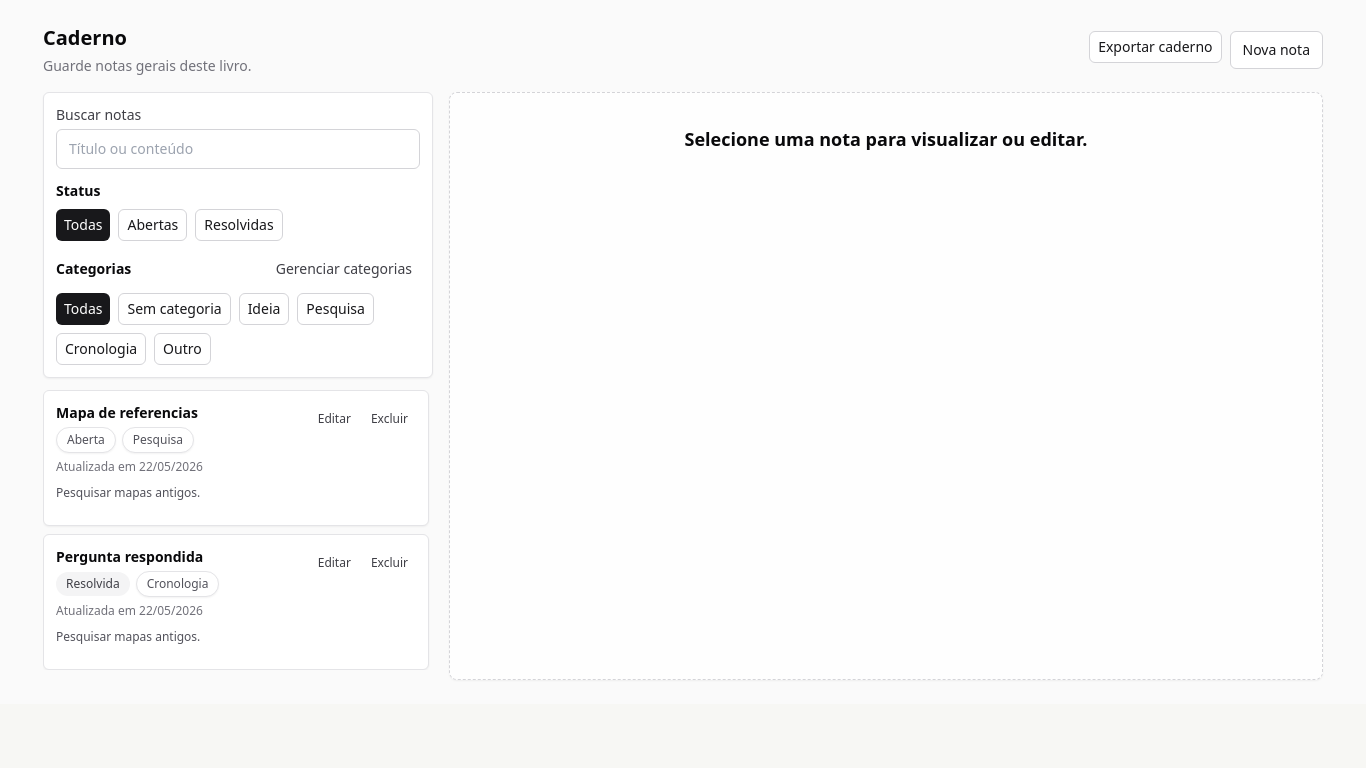
NotebookPanel writing layout and status › novo layout renderiza filtros lista e editor em duas areas
Expected: the element named "Navegação do caderno" is shown, [43, 92, 433, 680]
Expected: the field labelled "Buscar notas" is shown, [56, 129, 420, 169]
Step 1. Click the heading "Mapa de referencias" → (127, 412), box [56, 403, 198, 422]
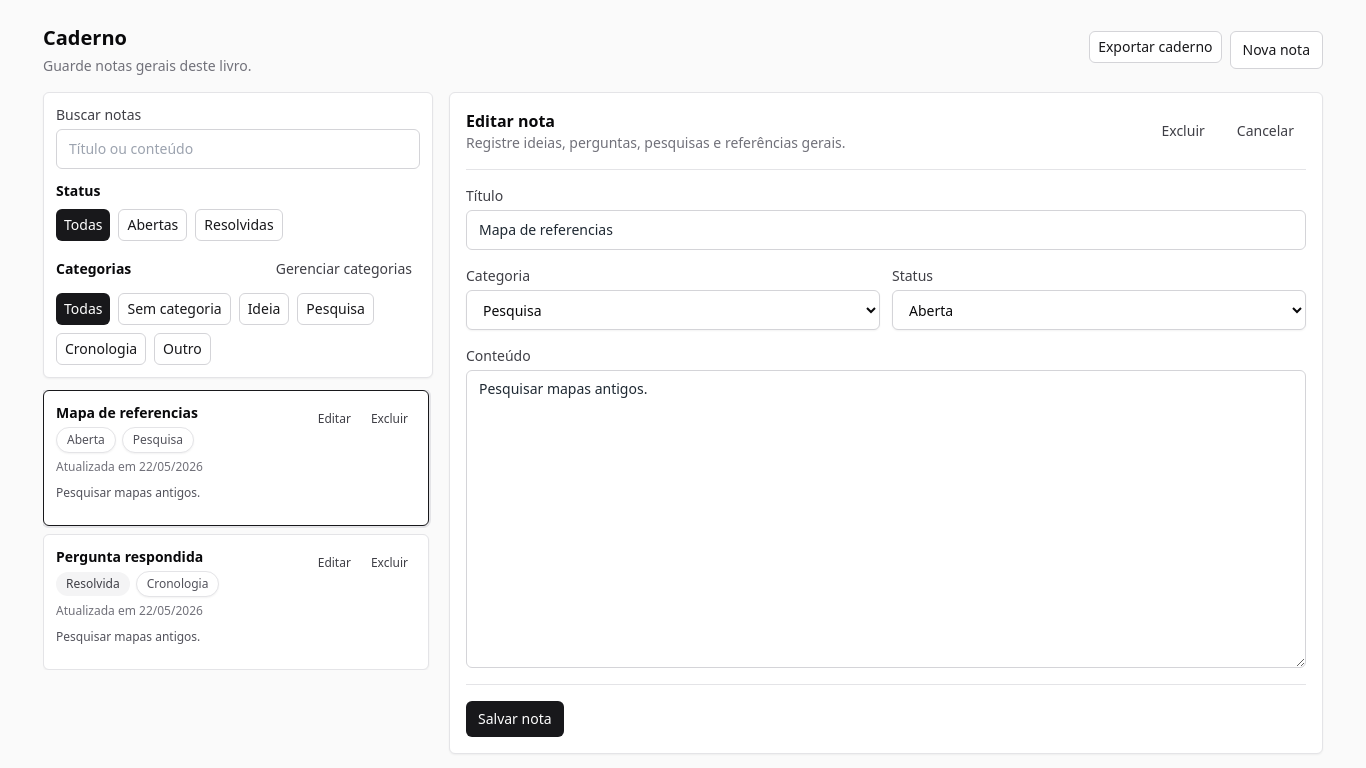
Expected: the element named "Editor do caderno" is shown, [449, 92, 1323, 754]
Result: the heading "Editar nota" is shown at [466, 110, 555, 132]
Result: the field showing "Mapa de referencias" is shown at [466, 210, 1306, 250]
